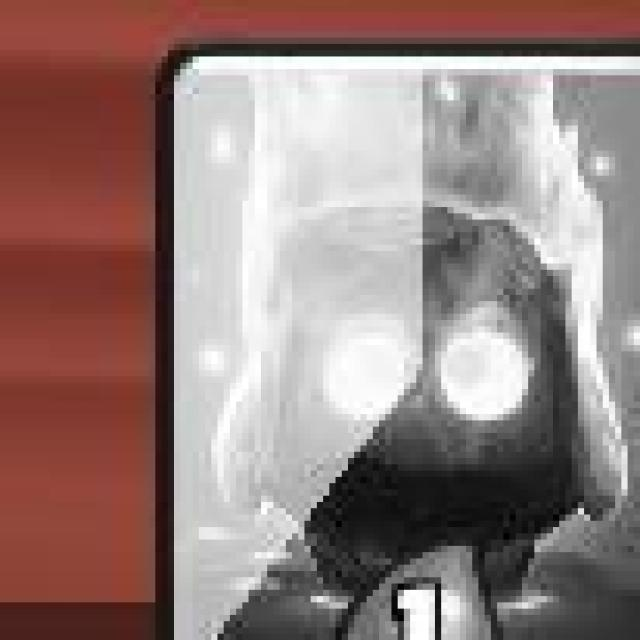Fire_Spirit: (156, 40, 640, 640)
